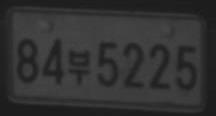2: (148, 43, 171, 89), (123, 42, 144, 88)
4: (43, 38, 64, 84)
5: (175, 45, 198, 90), (97, 42, 119, 86)
8: (16, 38, 39, 83)
부: (68, 48, 91, 83)
